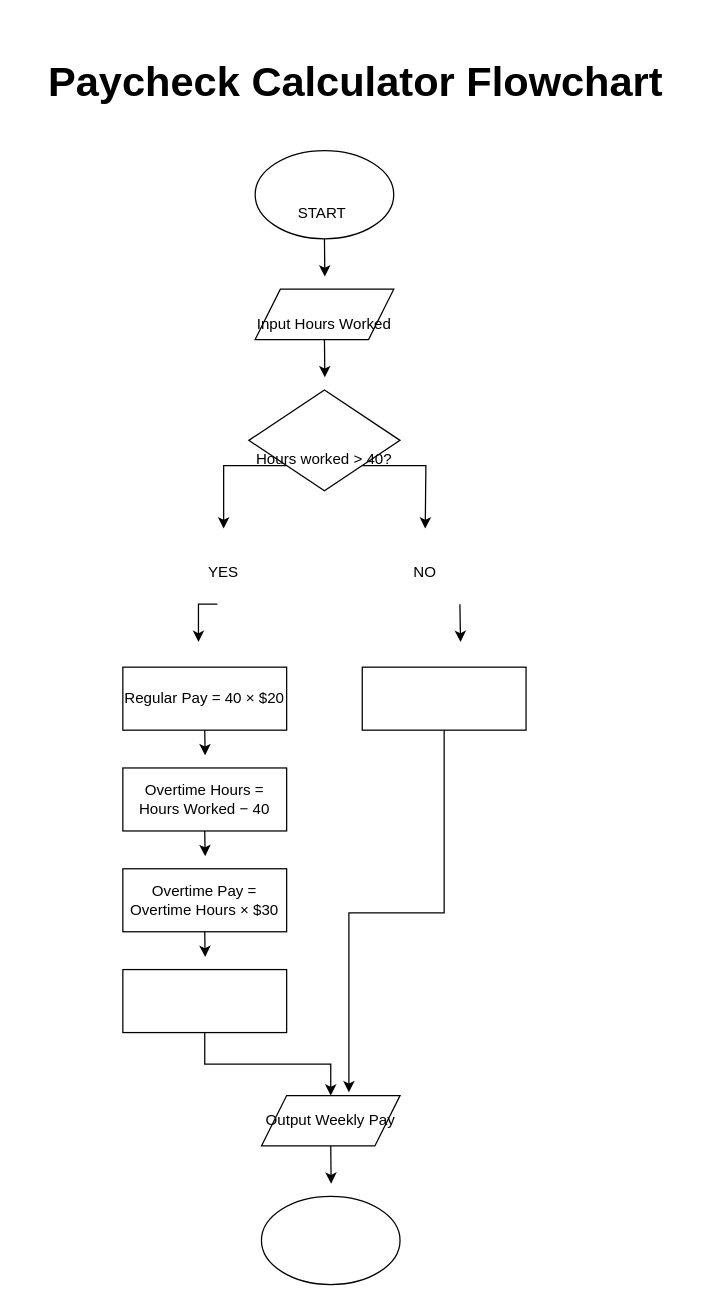
Some shapes in this 711 by 1307 pixel diagram are drawn without their labels. The centre of each missing label's shape, as x and y in pixels:
END: (330,1240)
Weekly Pay = Hours Worked × $20: (443,698)
Weekly Pay = Regular Pay + Overtime Pay: (204,1000)
